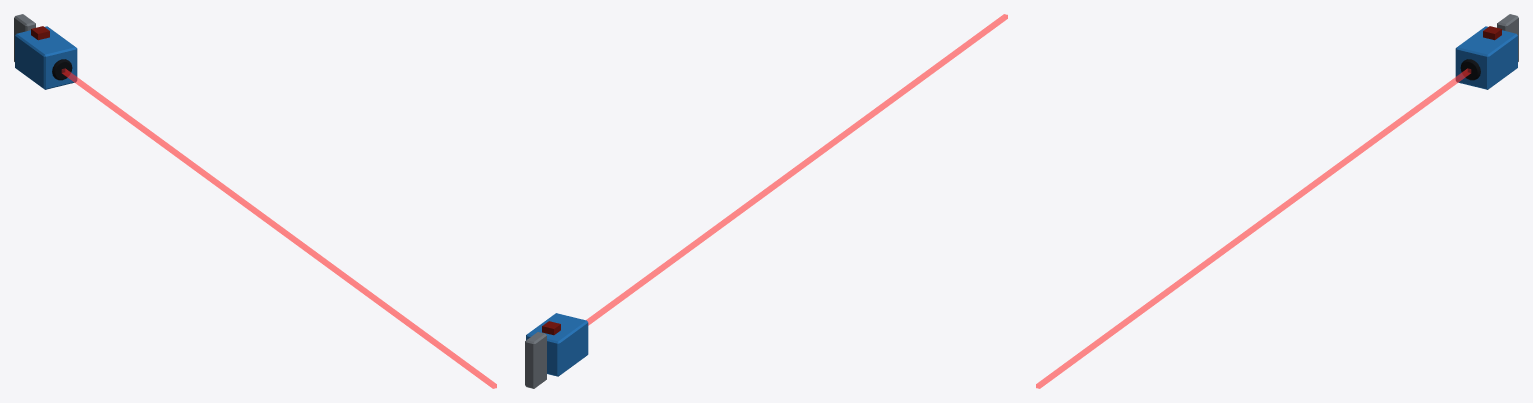
The model's file is retroreflective_sensor.glb.
3 renders of one model, left to right at view 1: azimuth 30°, elevation 25°; view 2: azimuth 150°, elevation 25°; view 3: azimuth 330°, elevation 25°, orthographic.
Parts seen in each view (by area): view 1: SensorBeam, Sensor_Static; view 2: SensorBeam, Sensor_Static; view 3: SensorBeam, Sensor_Static.
Boxes of the visible parts, left/top/right/bottom form: SensorBeam: left=62, top=68, right=496, bottom=388; Sensor_Static: left=14, top=14, right=77, bottom=89; SensorBeam: left=586, top=14, right=1007, bottom=325; Sensor_Static: left=525, top=313, right=588, bottom=388; SensorBeam: left=1036, top=68, right=1470, bottom=388; Sensor_Static: left=1455, top=14, right=1518, bottom=89.
Bounding box in the file's own units: 0.045 × 0.0605 × 1.1.
